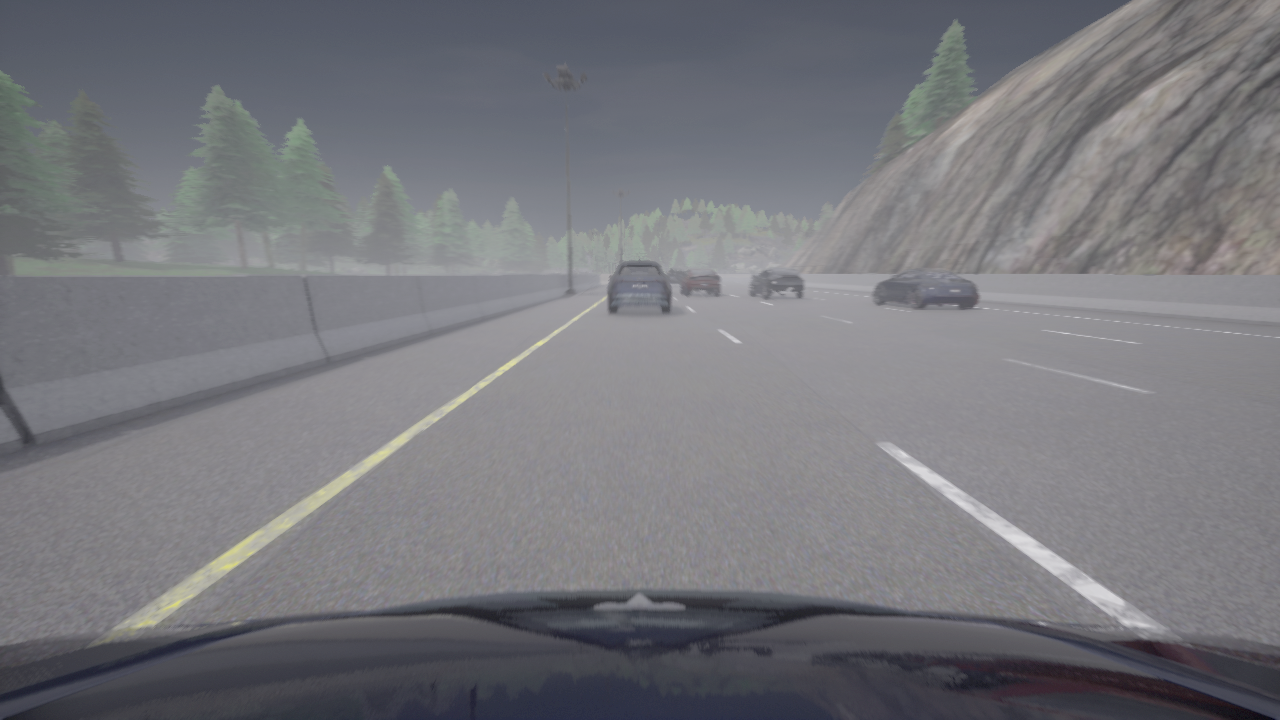cyclist: (0, 588, 1279, 719), (873, 269, 979, 308), (608, 261, 671, 313), (750, 267, 805, 298), (681, 268, 720, 295), (666, 267, 685, 282)
